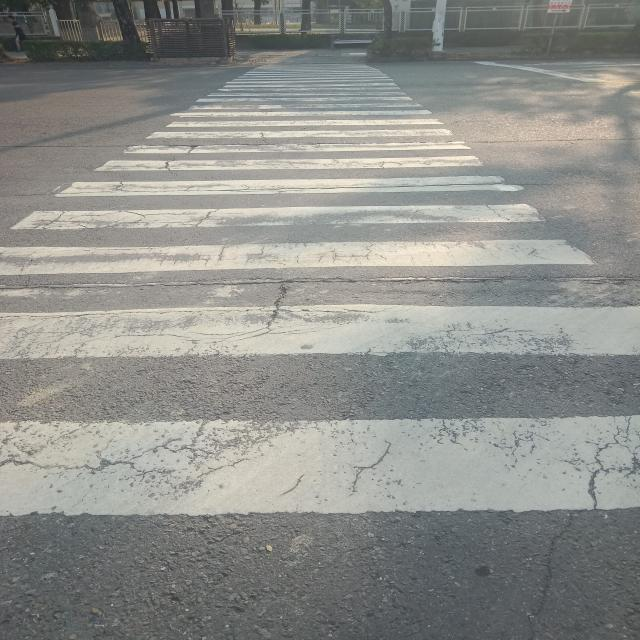zebra crossing: (11, 56, 640, 512)
